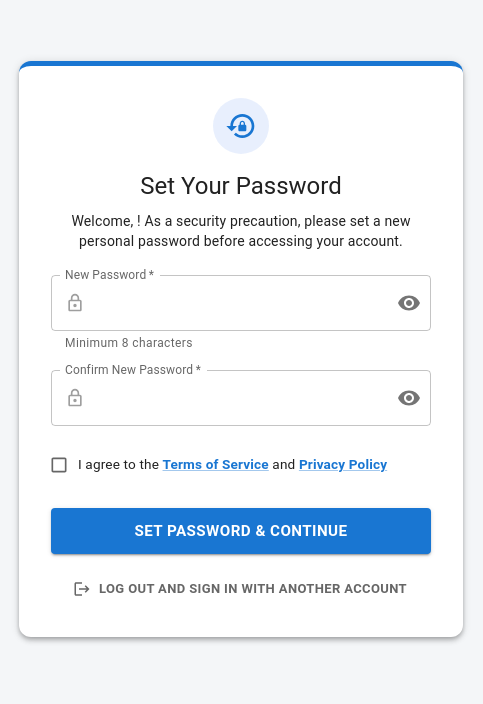
Test: ForcePasswordChangePage › shows error if submitting without agreeing to terms
In the password field labelled "New Password *": {"x": 237, "y": 303} [93, 275, 381, 331], type "brandNewPassword123"
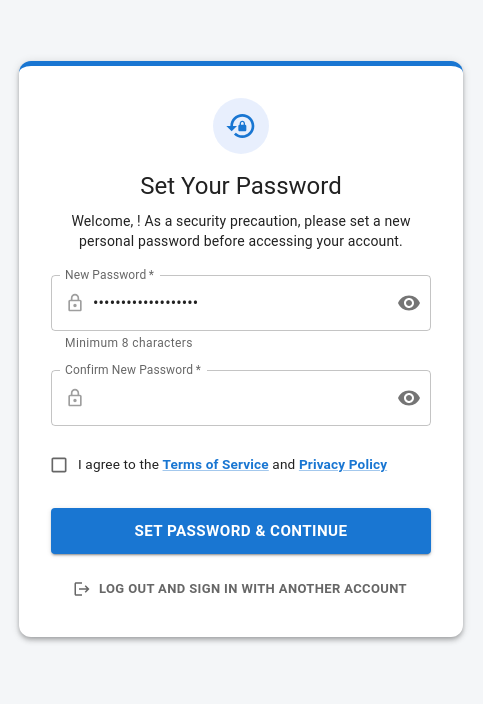
In the password field labelled "Confirm New Password *": {"x": 237, "y": 398} [93, 370, 381, 426], type "brandNewPassword123"
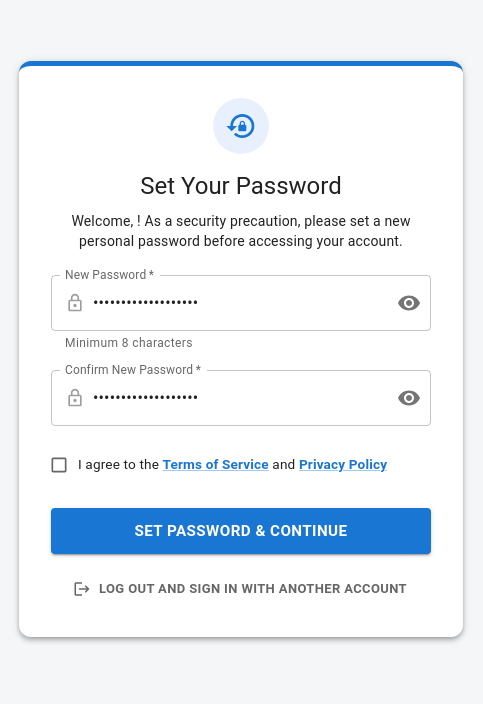
Submit the form from the button "Set Password & Continue", box [51, 508, 431, 554]
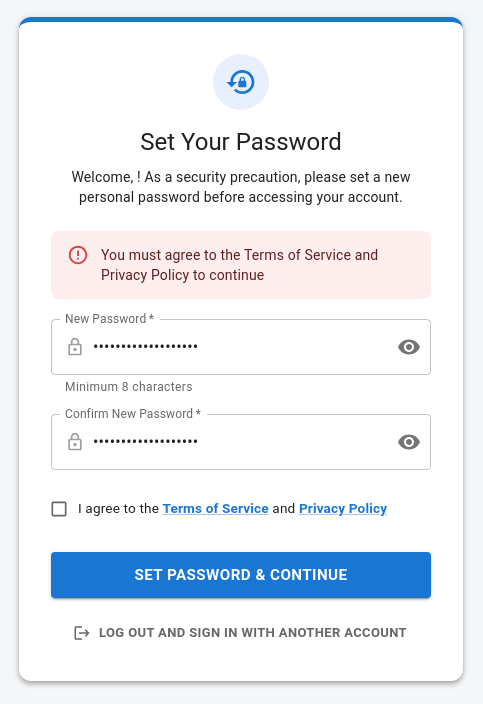
Expected: the text "You must agree to the Terms of Service and Privacy Policy to continue" is shown, [101, 237, 415, 293]
